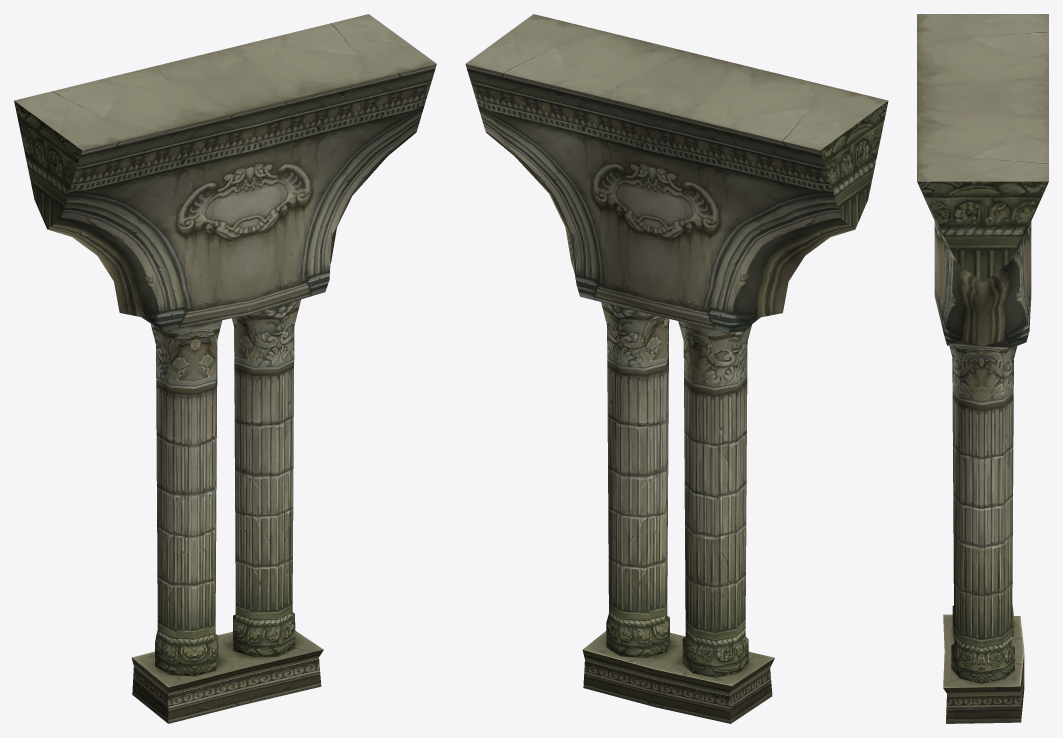
3 views of the same model, side by side, from view 1: azimuth 30°, elevation 25°; view 2: azimuth 150°, elevation 25°; view 3: azimuth 270°, elevation 25° (orthographic). The views are drawn at different scales.
Visible parts, largest first — view 1: Object016, DN_1_4_dt02d_a; view 2: Object016, DN_1_4_dt02d_a; view 3: Object016, DN_1_4_dt02d_a.
Part boxes in pixels (bbox=[...]): Object016: bbox=[14, 14, 436, 676]; DN_1_4_dt02d_a: bbox=[131, 631, 323, 723]; Object016: bbox=[465, 14, 888, 677]; DN_1_4_dt02d_a: bbox=[582, 631, 774, 723]; Object016: bbox=[917, 14, 1048, 683]; DN_1_4_dt02d_a: bbox=[943, 614, 1024, 723].
Size of the model in its own units: 1419 by 2316 by 469.
